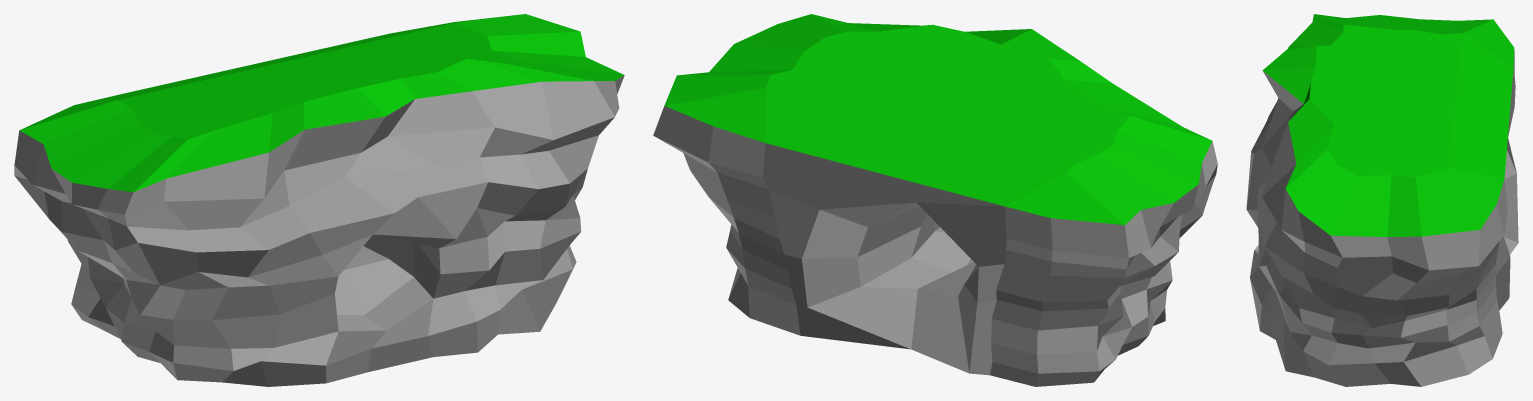
The model's file is huge_rock2.fbx.
3 renders of one model, left to right at view 1: azimuth 30°, elevation 25°; view 2: azimuth 150°, elevation 25°; view 3: azimuth 270°, elevation 25°, orthographic. The views are drawn at different scales.
Parts seen in each view (by area): view 1: Plane.003, Plane.004; view 2: Plane.003, Plane.004; view 3: Plane.003, Plane.004.
Boxes of the visible parts, x1,y1,x2,y2 form: Plane.003: [14, 14, 624, 386]; Plane.004: [248, 91, 504, 365]; Plane.003: [653, 14, 1217, 386]; Plane.004: [802, 202, 978, 373]; Plane.003: [1250, 14, 1516, 386]; Plane.004: [1246, 71, 1518, 313].
Bounding box in the file's own units: 3357 × 1643 × 1717.
